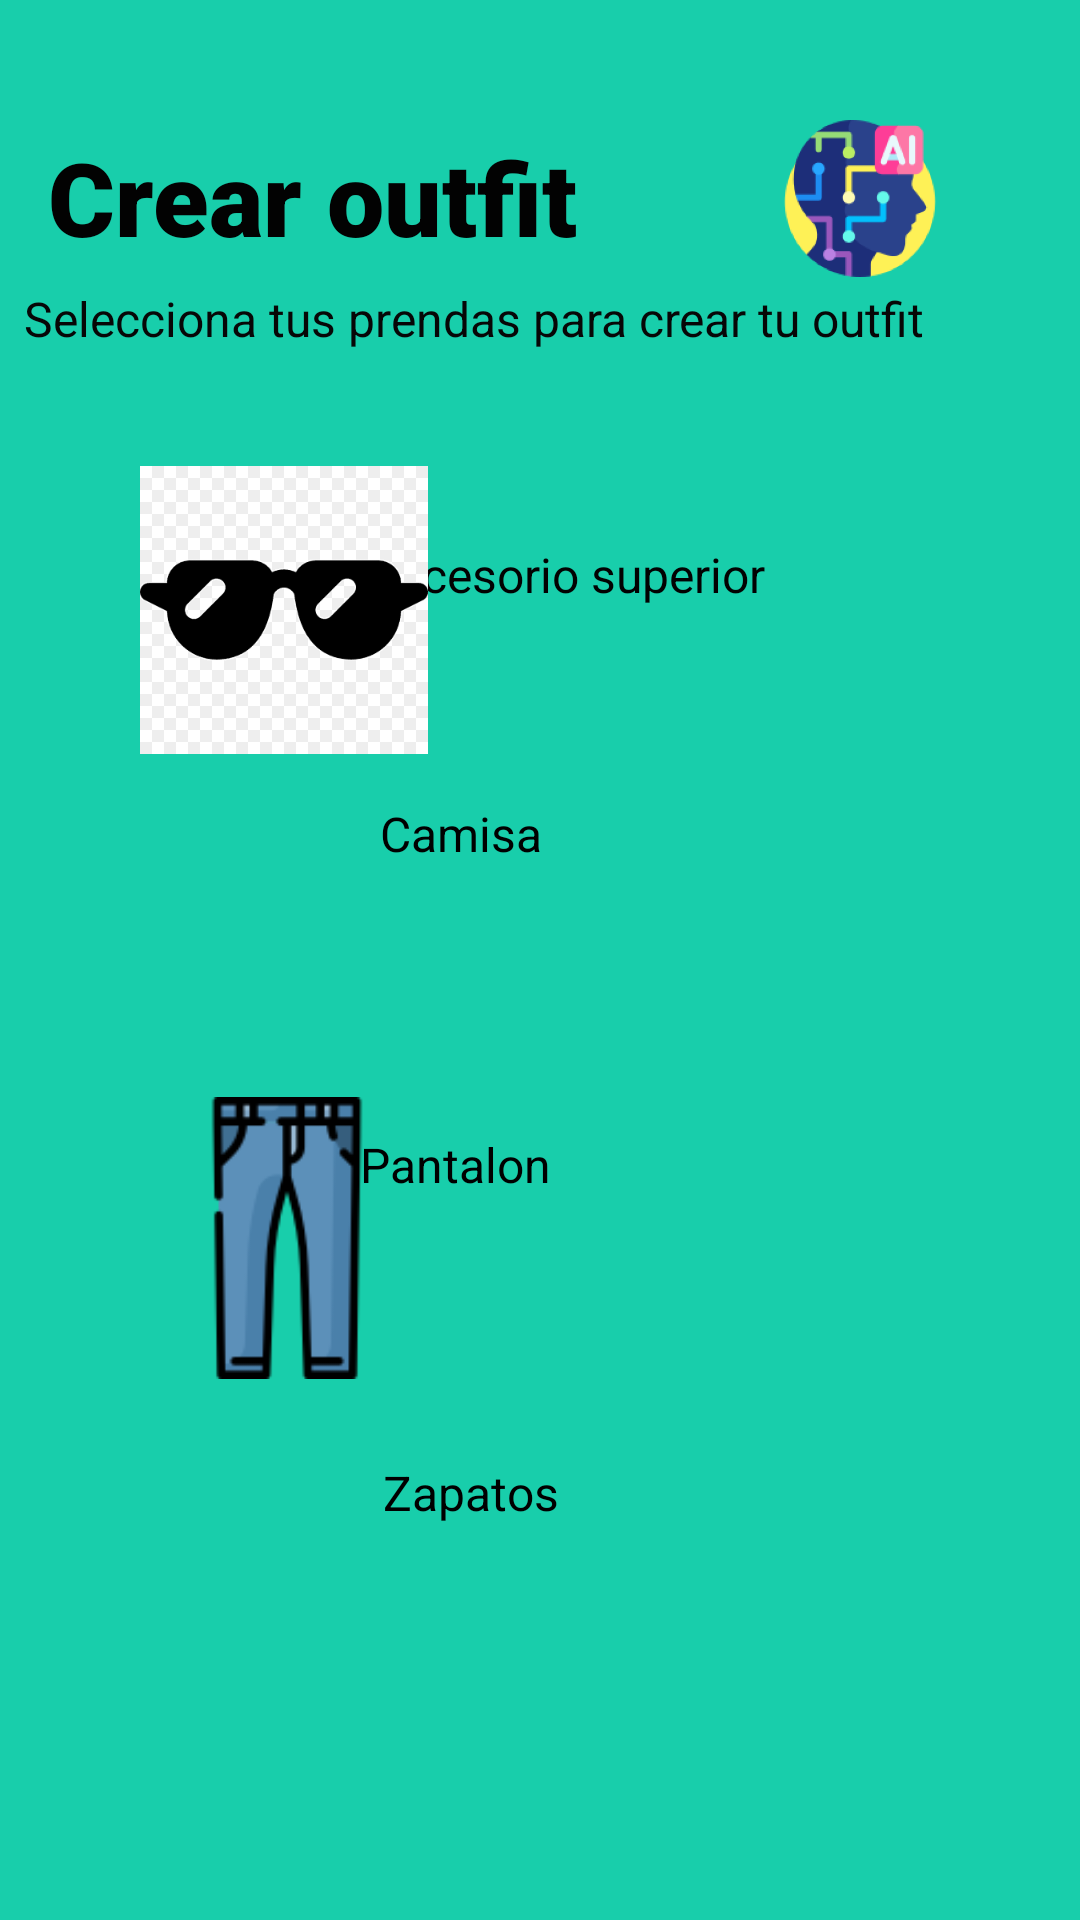

Named icons in this screenshot (1080w x 1920h) and their centers, (x,y):
ia home: (860,198)
